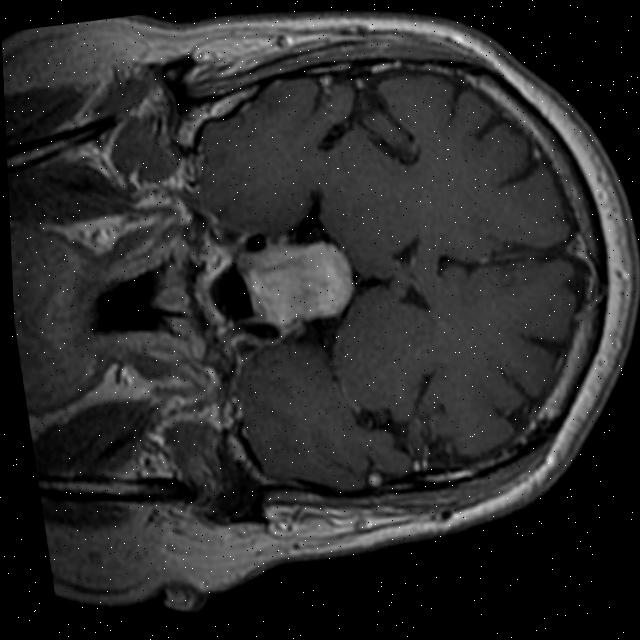Pituitary: (237, 234, 360, 332)
